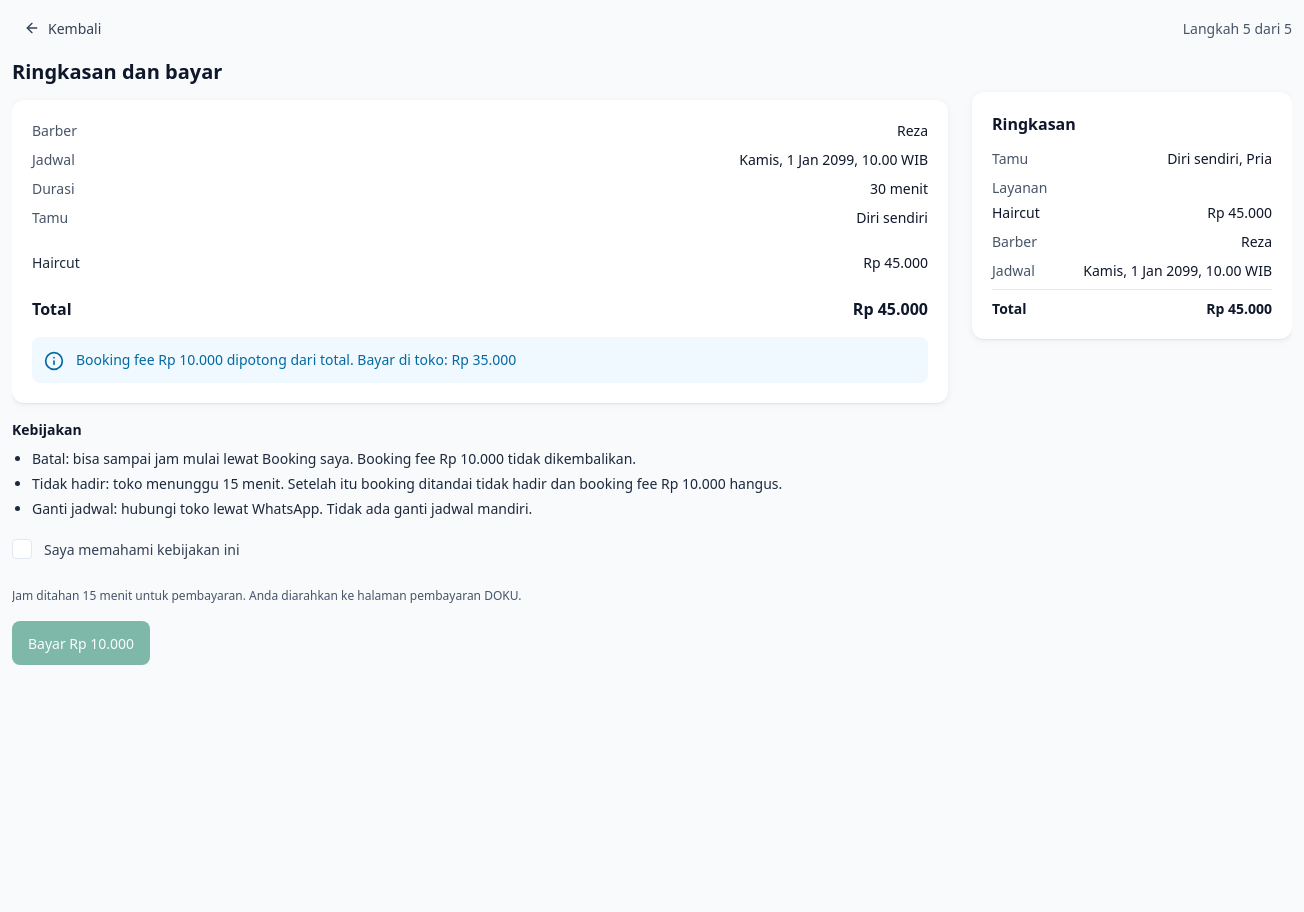
Test: ringkasan dan bayar › SLOT_TAKEN kembali ke jadwal dengan pesan
Click the checkbox named "Saya memahami kebijakan ini": (22, 549) [12, 539, 32, 559]
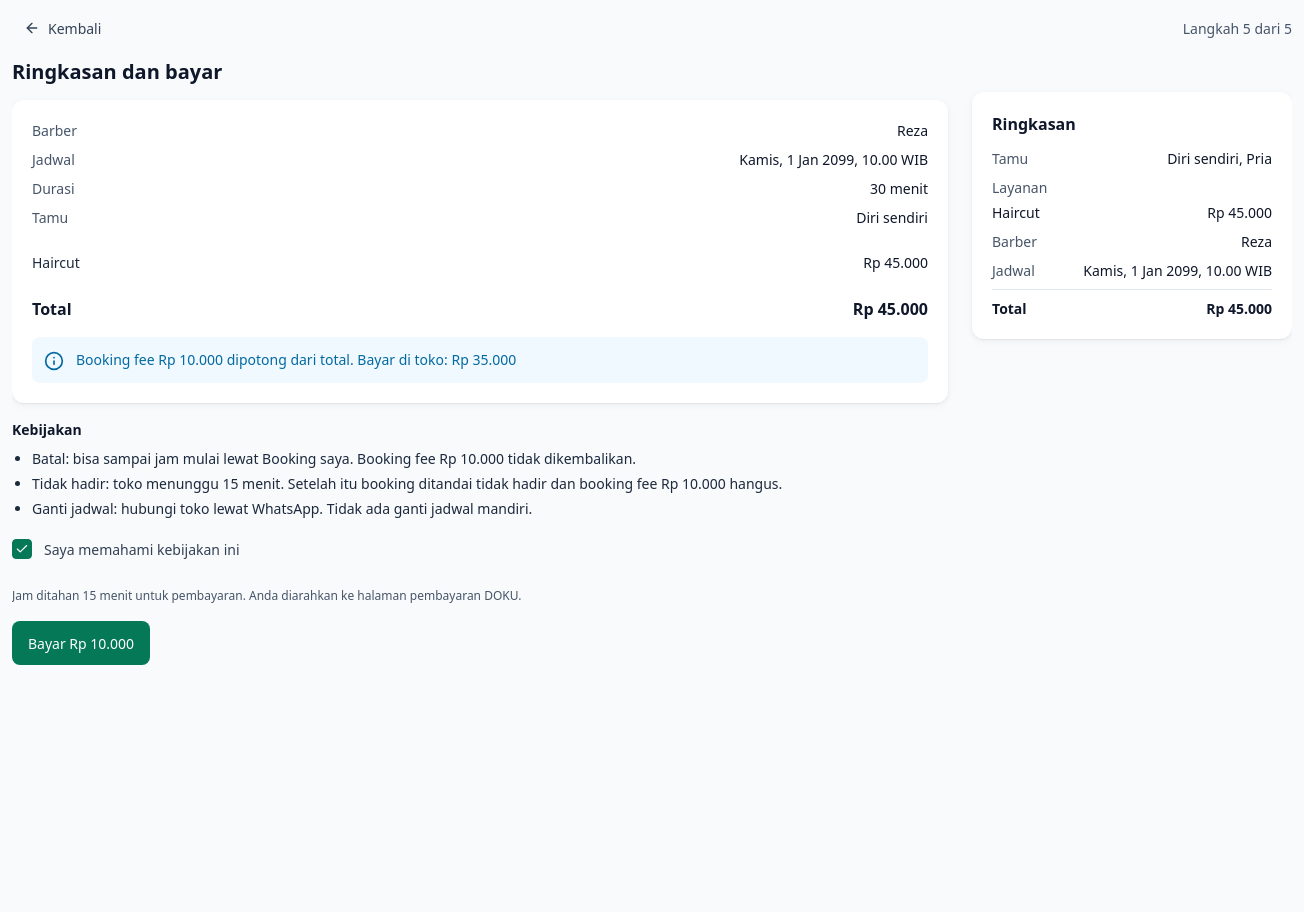
Click the button "Bayar Rp 10.000": (81, 643) [12, 621, 150, 665]
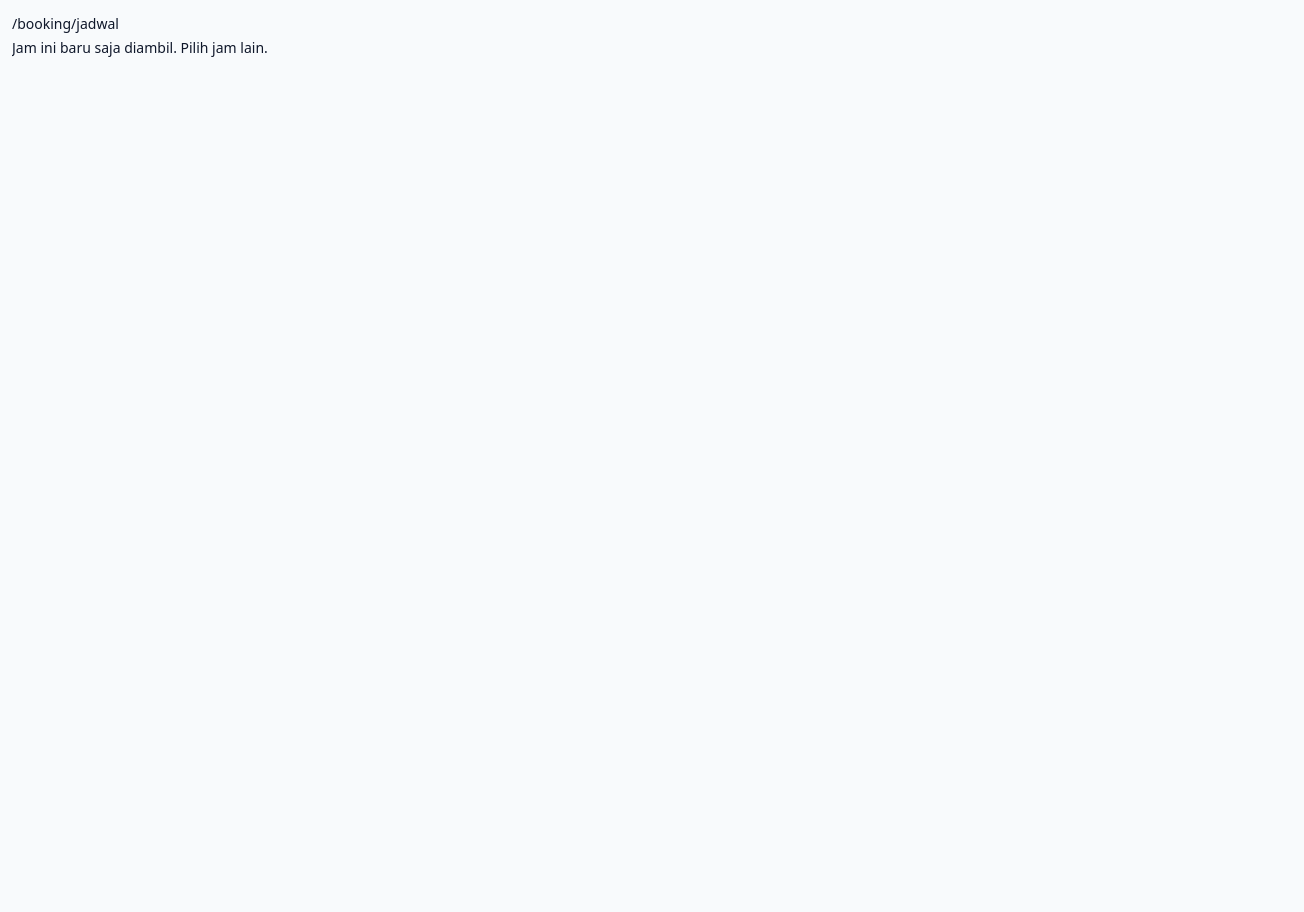
Now the text "Jam ini baru saja diambil. Pilih jam lain." is shown, box [12, 38, 268, 57]
Now the text with test id "path" reads "/booking/jadwal", box [12, 14, 119, 33]
